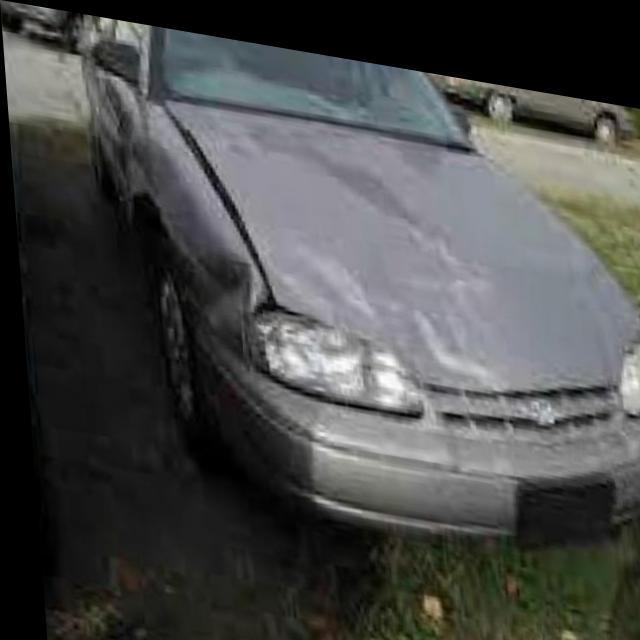dent: (259, 207, 491, 390), (187, 242, 250, 354)
